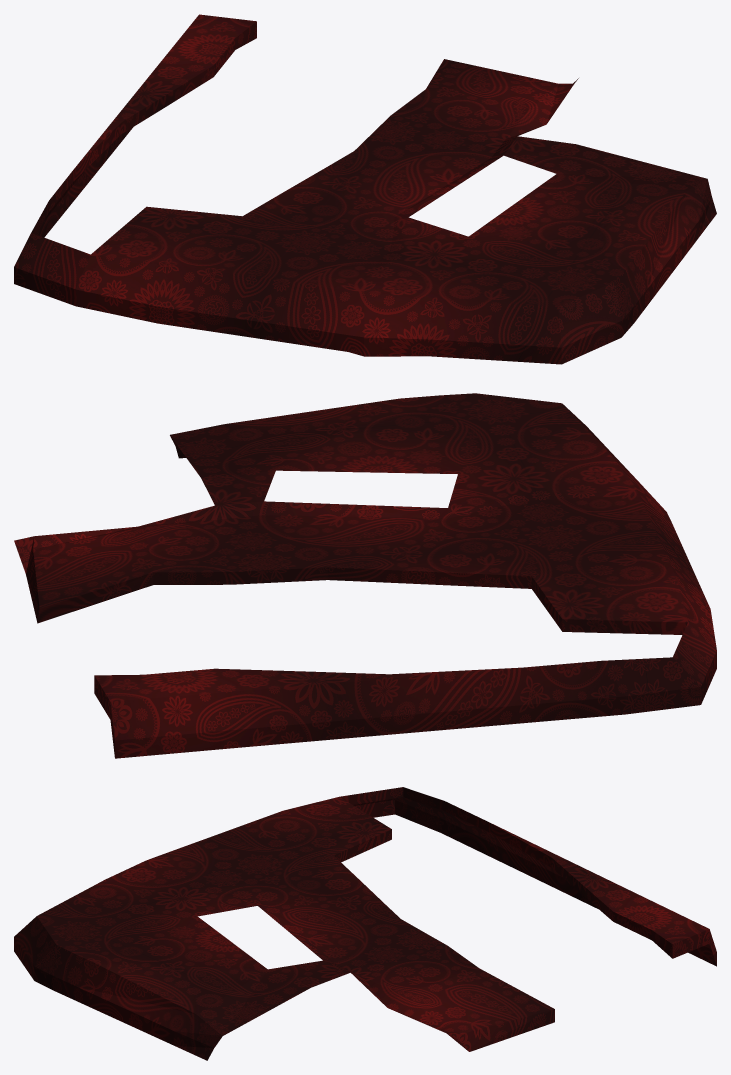
The model's file is PROP_brumblecarpet_route1.FBX.
3 renders of one model, top to bottom at view 1: azimuth 30°, elevation 25°; view 2: azimuth 150°, elevation 25°; view 3: azimuth 270°, elevation 25°, orthographic. The views are drawn at different scales.
Parts seen in each view (by area): view 1: rovi_tappeto; view 2: rovi_tappeto; view 3: rovi_tappeto.
Boxes of the visible parts, x1,y1,x2,y2 form: rovi_tappeto: [14, 14, 716, 364]; rovi_tappeto: [14, 393, 716, 758]; rovi_tappeto: [14, 787, 716, 1060].
Bounding box in the file's own units: 29.24 × 2.45 × 34.21.
